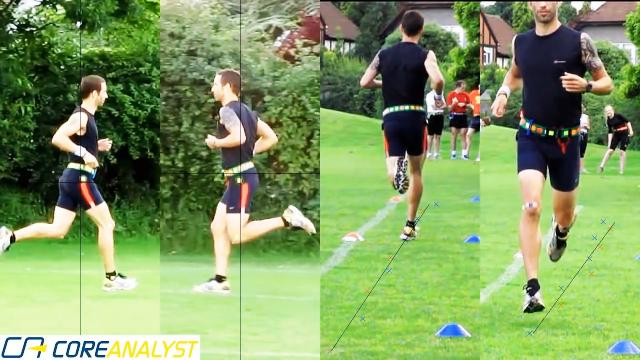berlari: (489, 0, 615, 316), (1, 70, 141, 298), (192, 63, 314, 297), (356, 8, 446, 253)
